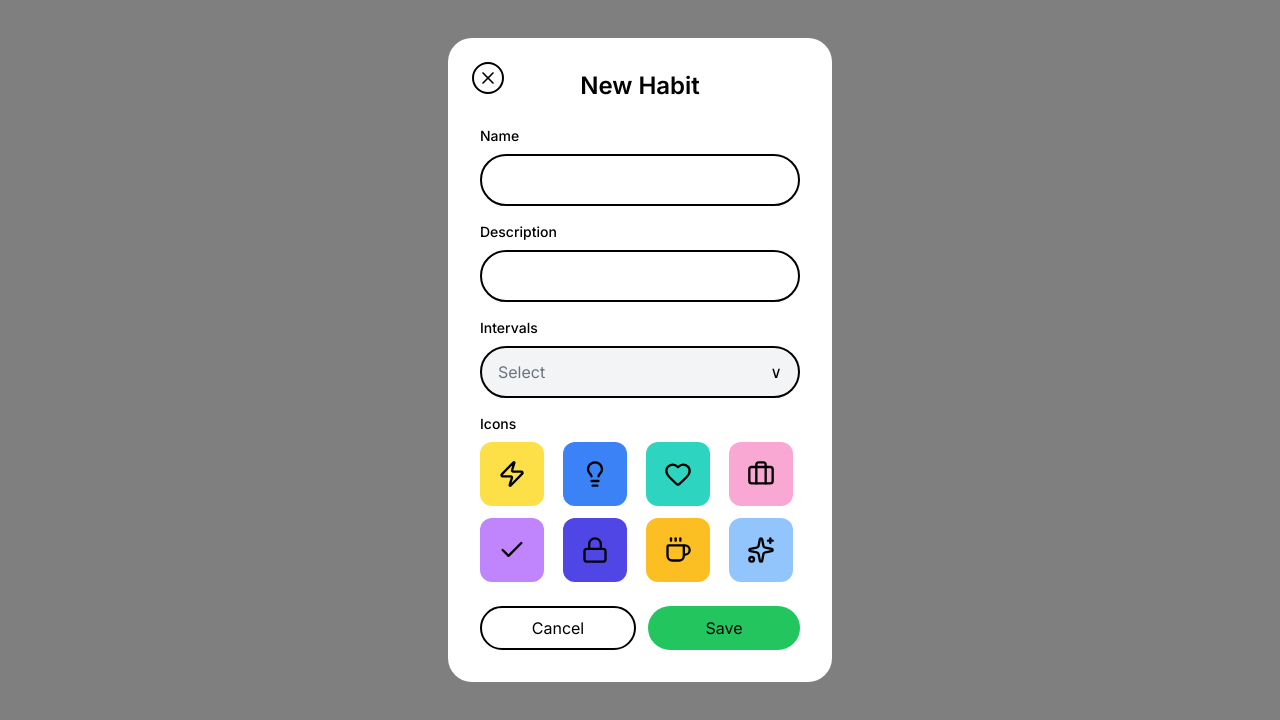
Test: HabitModal Component › opens and closes intervals dropdown
expect the text "∨" is shown: met, box [770,360,782,384]
// Click to open dropdown
Click the text "Select".
click(522, 372)  # box [498,360,545,384]
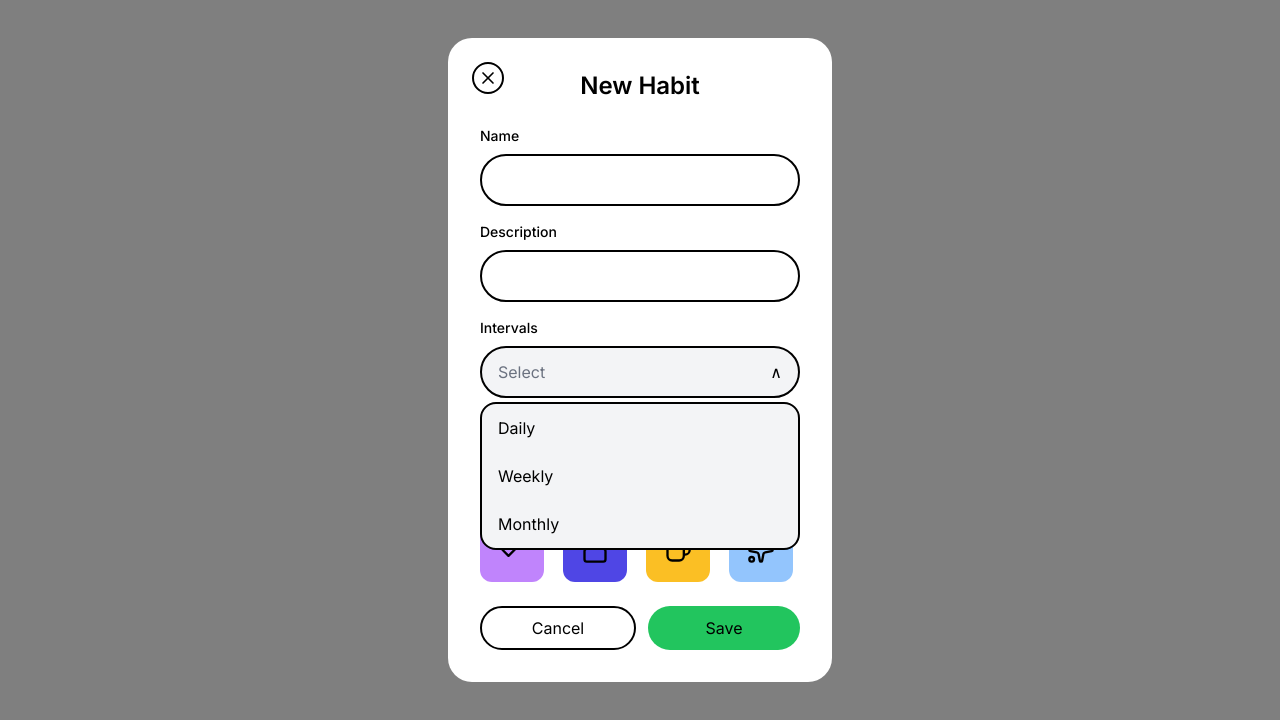
expect the text "∧" is shown: met, box [770,360,782,384]
expect the button "Daily" is shown: met, box [482,404,798,452]
expect the button "Weekly" is shown: met, box [482,452,798,500]
